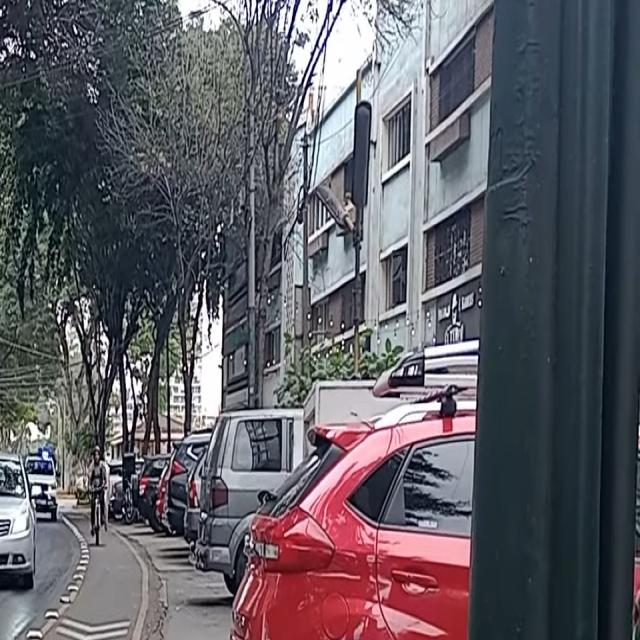bicycle: (86, 445, 108, 547)
car: (0, 447, 37, 591), (21, 448, 61, 524)
